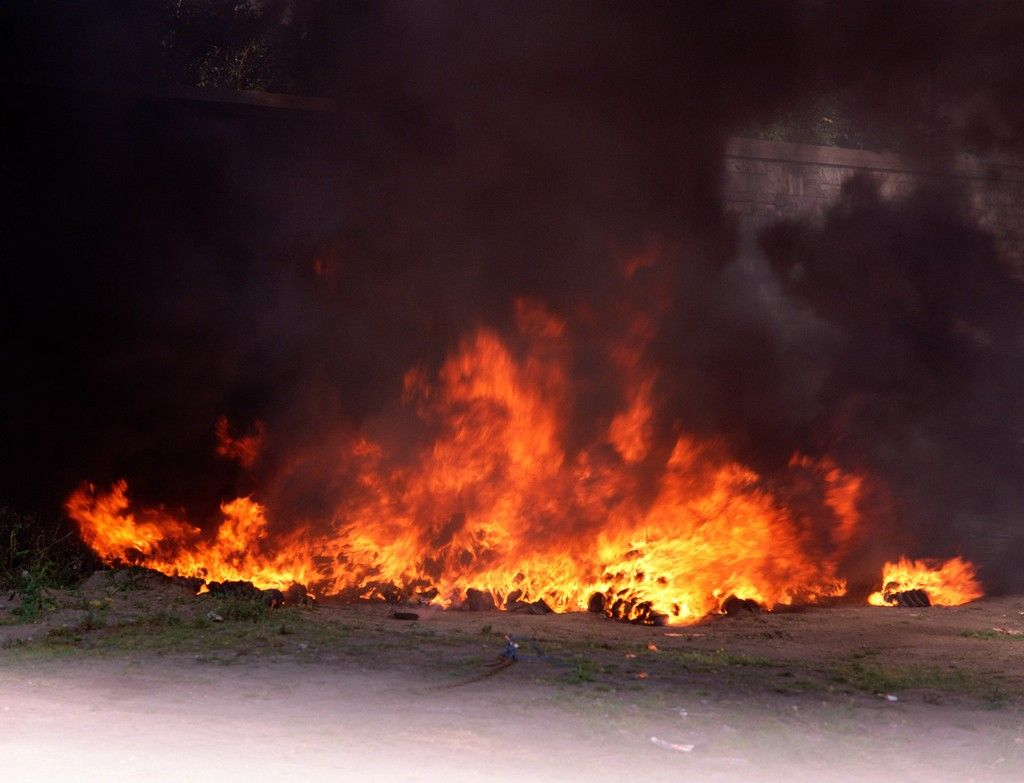fire: (64, 290, 849, 610), (858, 541, 997, 612)
